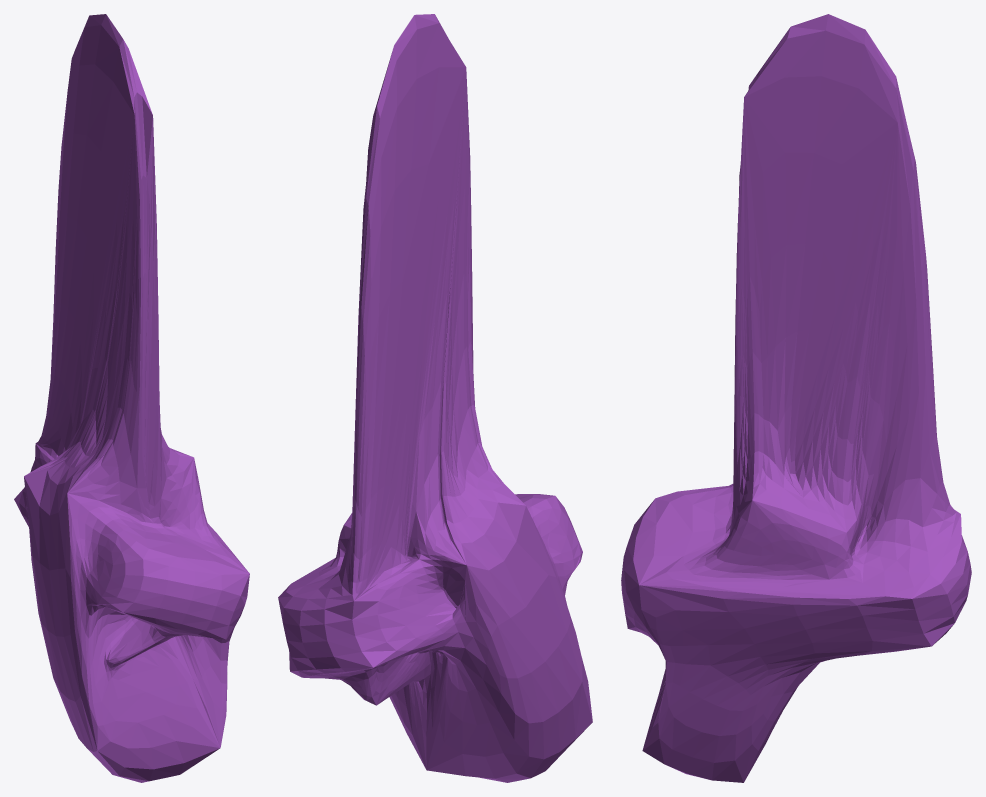
3 renders of one model, left to right at view 1: azimuth 30°, elevation 25°; view 2: azimuth 150°, elevation 25°; view 3: azimuth 270°, elevation 25°, orthographic. The views are drawn at different scales.
Parts seen in each view (by area): view 1: 475_Cube.1926; view 2: 475_Cube.1926; view 3: 475_Cube.1926.
Boxes of the visible parts, x1,y1,x2,y2 form: 475_Cube.1926: [14, 14, 249, 782]; 475_Cube.1926: [278, 14, 592, 782]; 475_Cube.1926: [621, 14, 971, 782].
Size of the model in its own units: 3.49 by 13.99 by 5.82.
